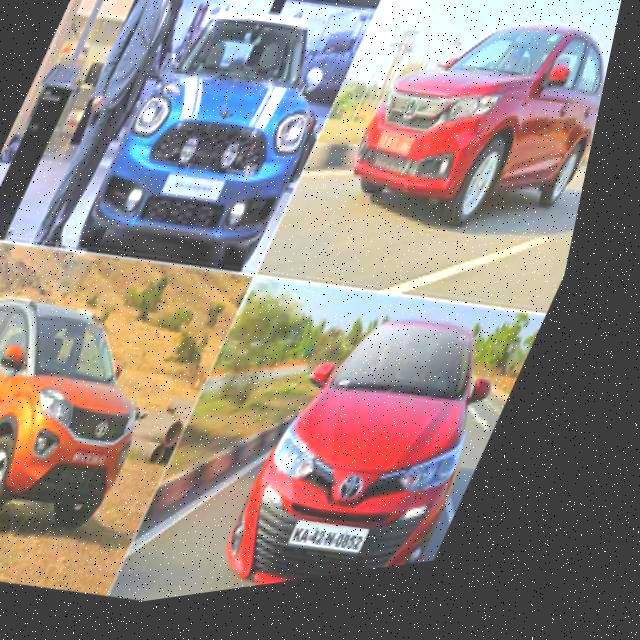license_plate: (300, 514, 407, 592), (370, 122, 440, 189), (170, 172, 228, 212), (80, 446, 134, 482)
